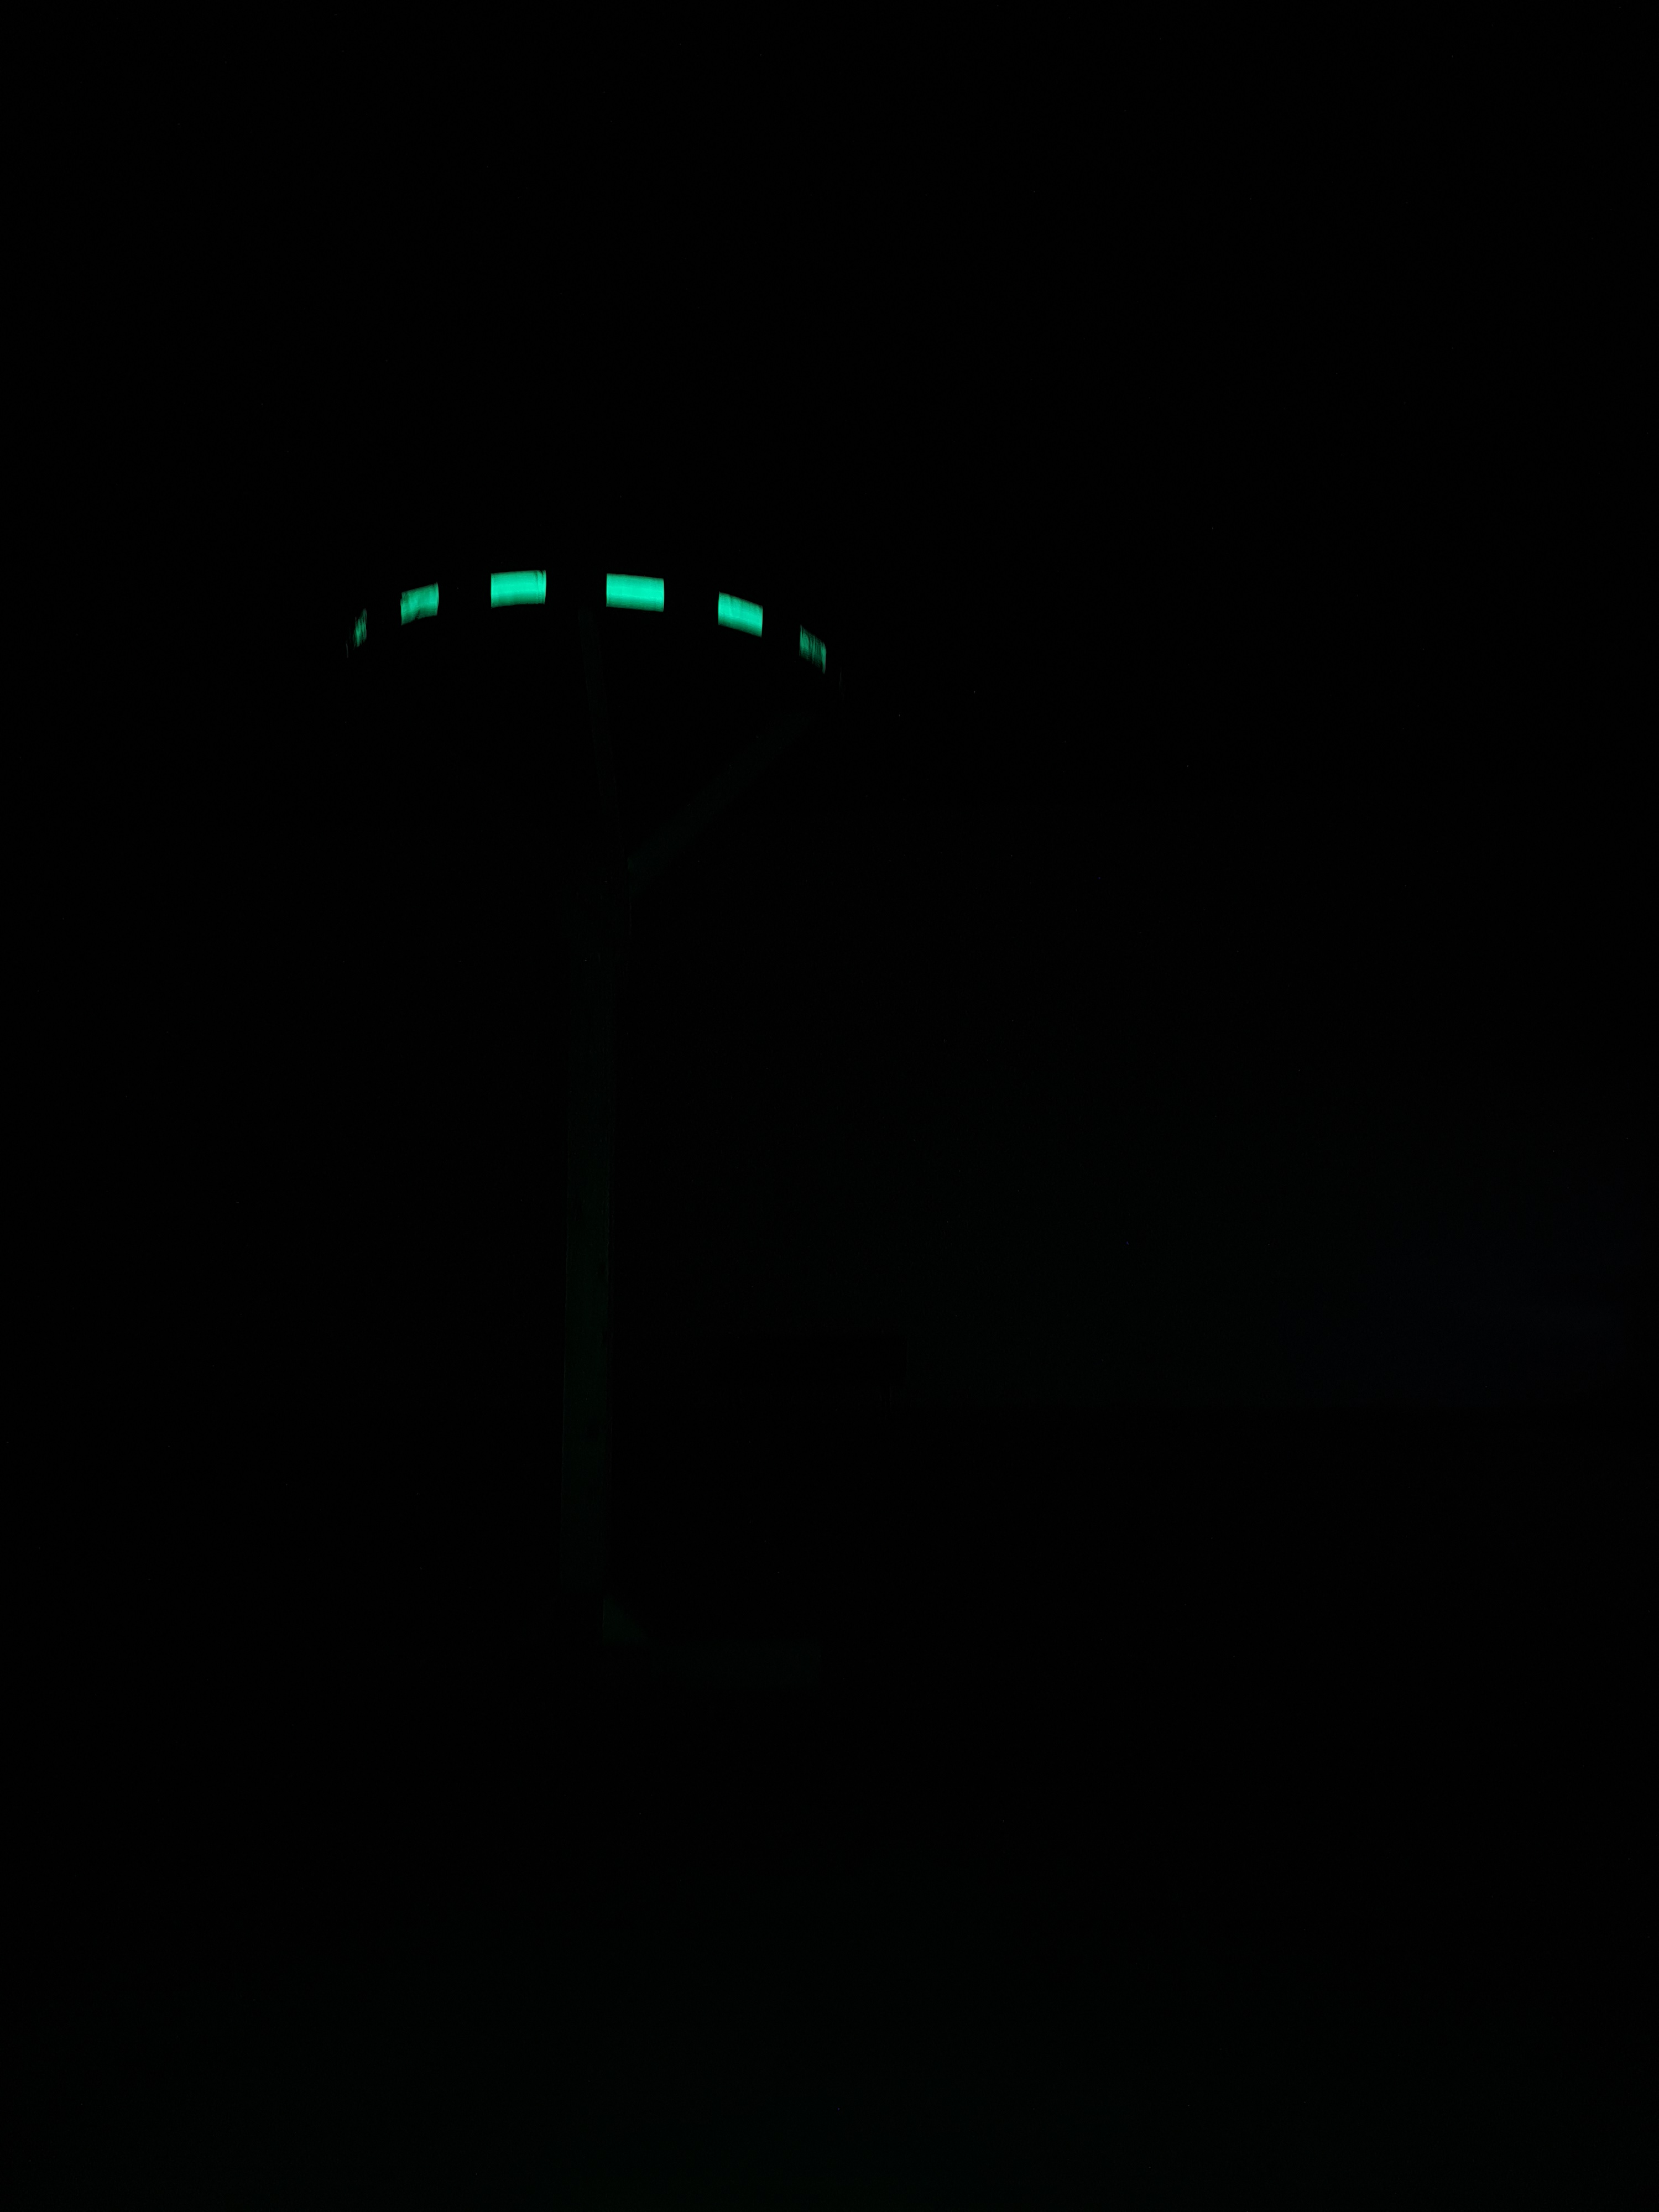hoop: (335, 557, 831, 691)
